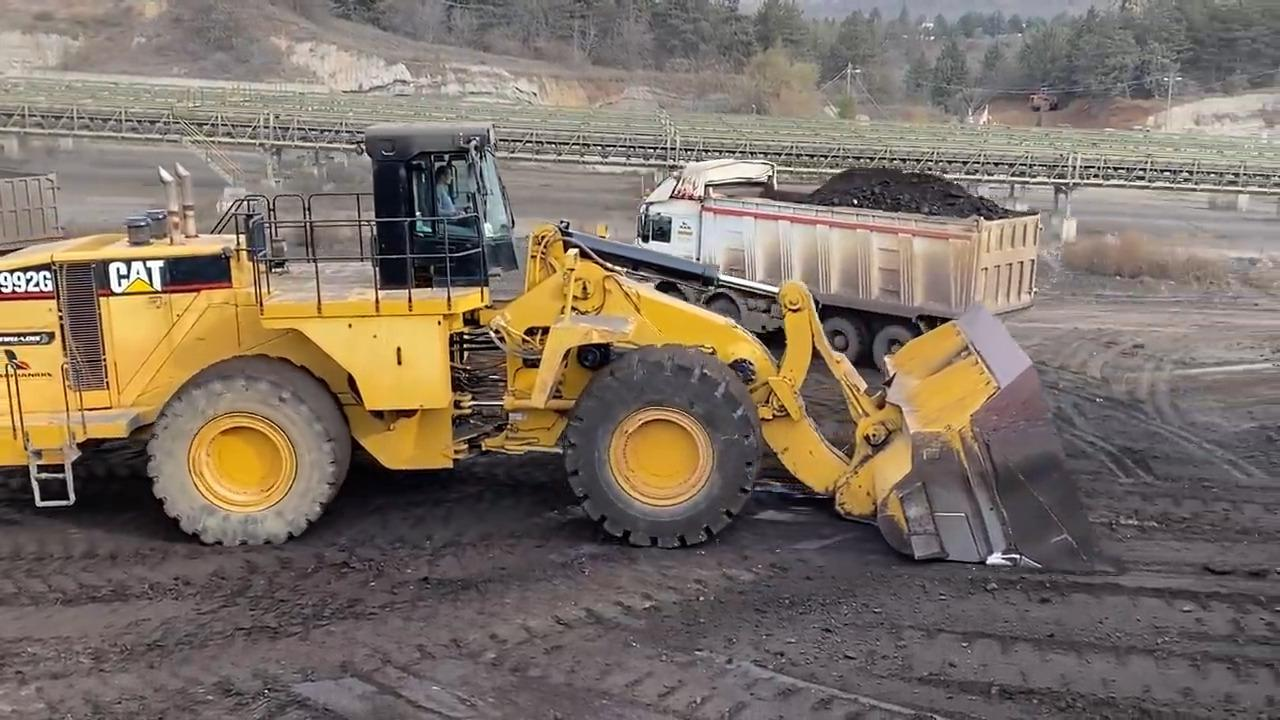dump truck: (636, 149, 1043, 376), (0, 159, 69, 260)
wheel loader: (0, 117, 1126, 591)
